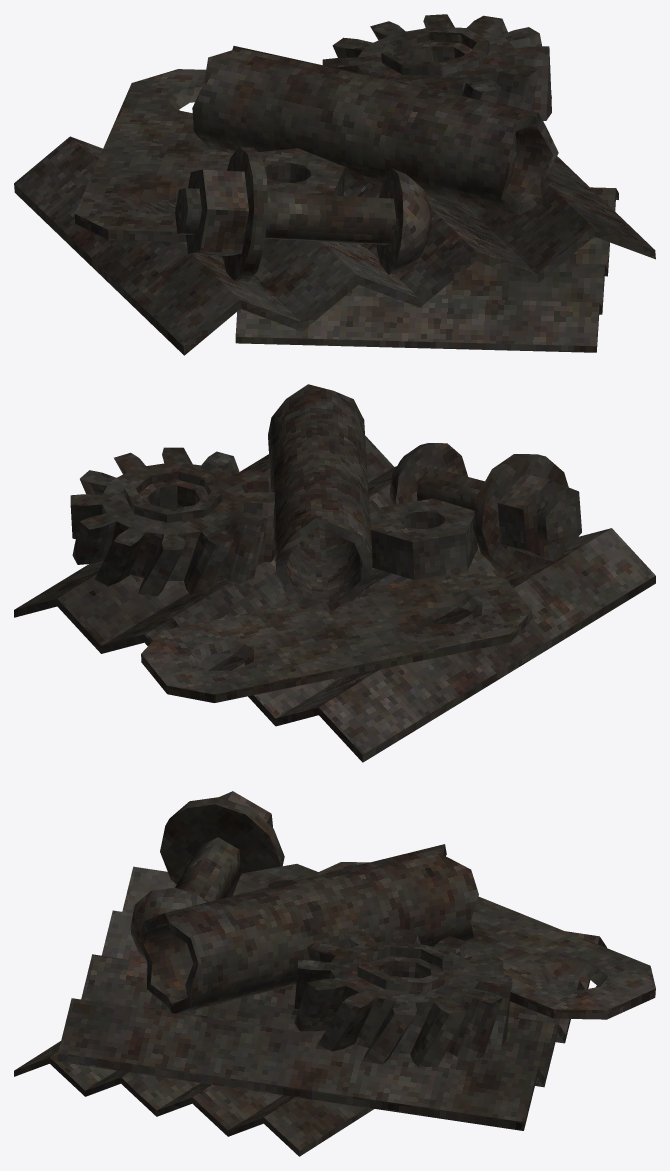
The model's file is scrap_metal_mx_1.glb.
3 views of the same model, one above another, from view 1: azimuth 30°, elevation 25°; view 2: azimuth 150°, elevation 25°; view 3: azimuth 270°, elevation 25° (orthographic). The views are drawn at different scales.
Parts seen in each view (by area): view 1: scrap_metal_mx_1; view 2: scrap_metal_mx_1; view 3: scrap_metal_mx_1.
Part boxes in pixels (left/top/right/bottom): scrap_metal_mx_1: left=14, top=14, right=655, bottom=355; scrap_metal_mx_1: left=14, top=384, right=655, bottom=762; scrap_metal_mx_1: left=14, top=791, right=655, bottom=1156.
Size of the model in its own units: 0.3174 by 0.106 by 0.3591.
1 material, 1 textured.
